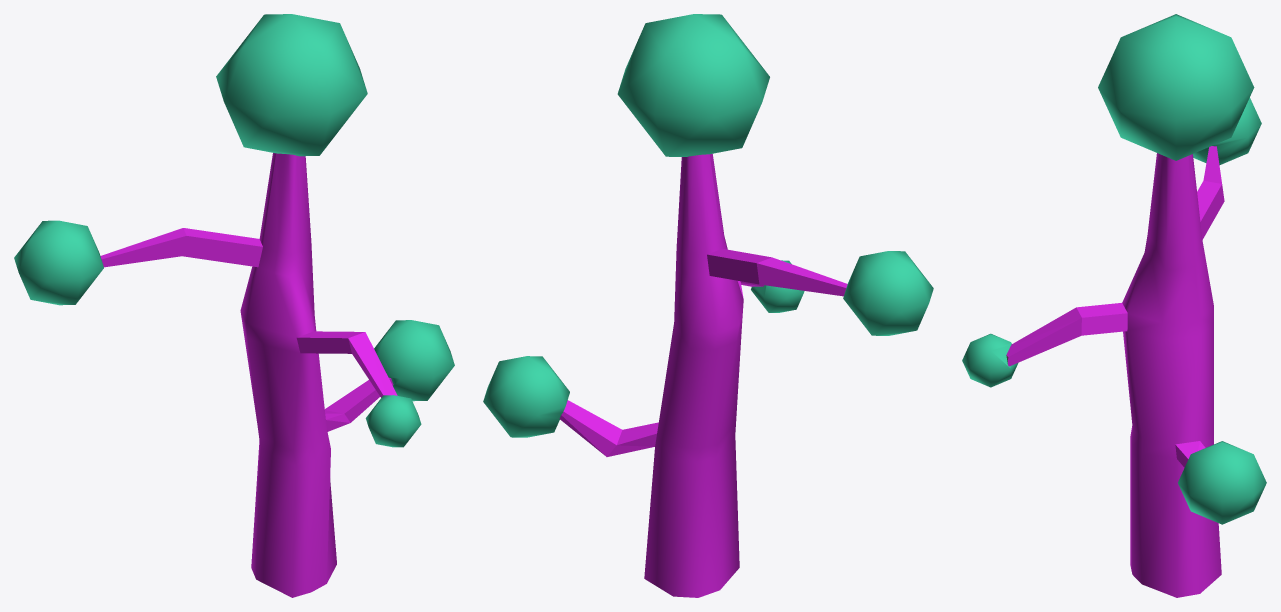
The model's file is Tree 1.fbx.
3 renders of one model, left to right at view 1: azimuth 30°, elevation 25°; view 2: azimuth 150°, elevation 25°; view 3: azimuth 270°, elevation 25°, orthographic.
Visible parts, largest first — view 1: Tree 1; view 2: Tree 1; view 3: Tree 1.
Boxes of the visible parts, x1,y1,x2,y2 form: Tree 1: [14, 14, 454, 597]; Tree 1: [483, 14, 933, 597]; Tree 1: [962, 14, 1266, 597].
Size of the model in its own units: 46.19 by 56.95 by 28.13.
Materials: 3 (2 with a texture image).
